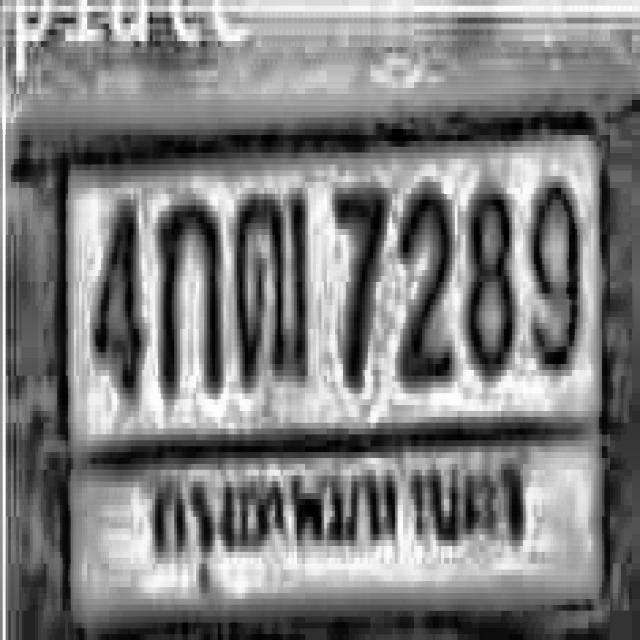license-plate: (9, 89, 640, 640)
